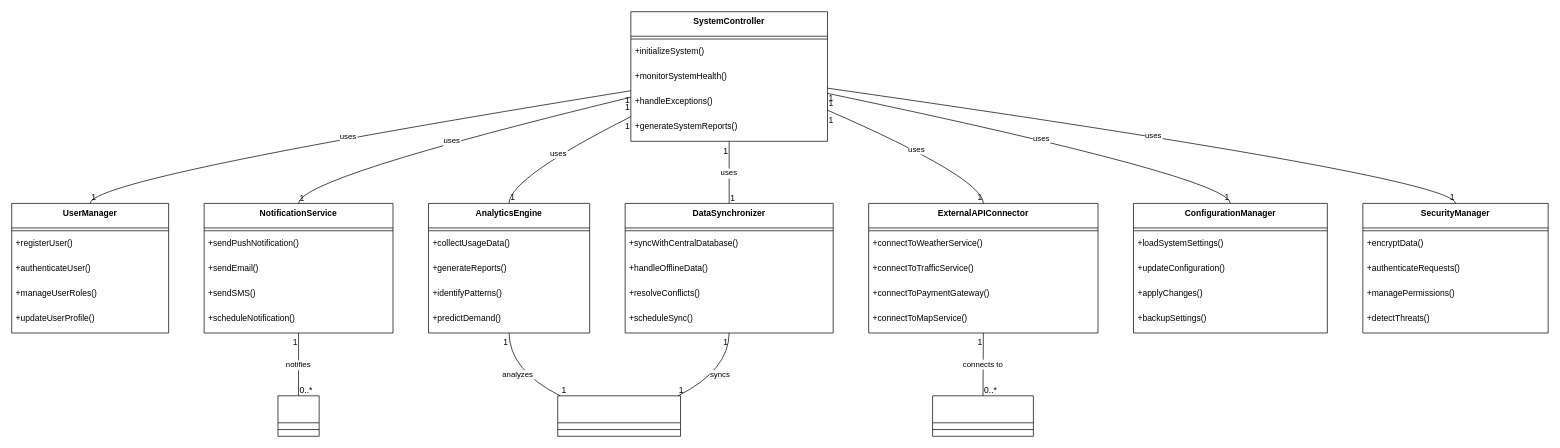
This 1560x448 diagram has some shape labels left out. The shapes that lost their labels are listed below. From the top down, each one's centre as x and y in pixels, then its label:
the point at 298,415: User
the point at 619,415: OperationsDatabase
the point at 982,415: ExternalService
